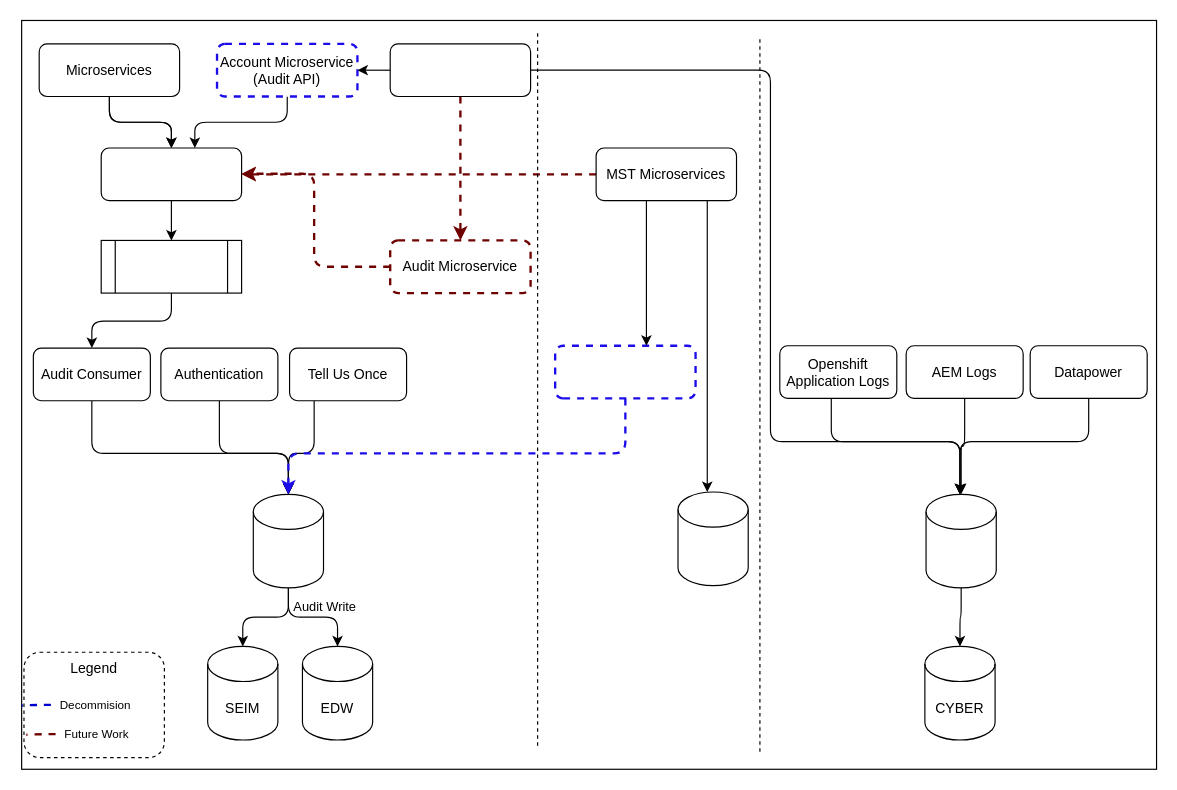
This 1177x790 diagram has some shape labels left out. Each missing label, with the centre of its shape:
"Audit API Common Component" goes at pixel 171 174.
"Audit Kafka" goes at pixel 171 266.
"Elastic" goes at pixel 960 540.
"ISAM" goes at pixel 460 70.
"myGov Audit Log" goes at pixel 288 540.
"Staff Audit API Common Component" goes at pixel 624 371.
"Staff Audit Log" goes at pixel 712 538.
